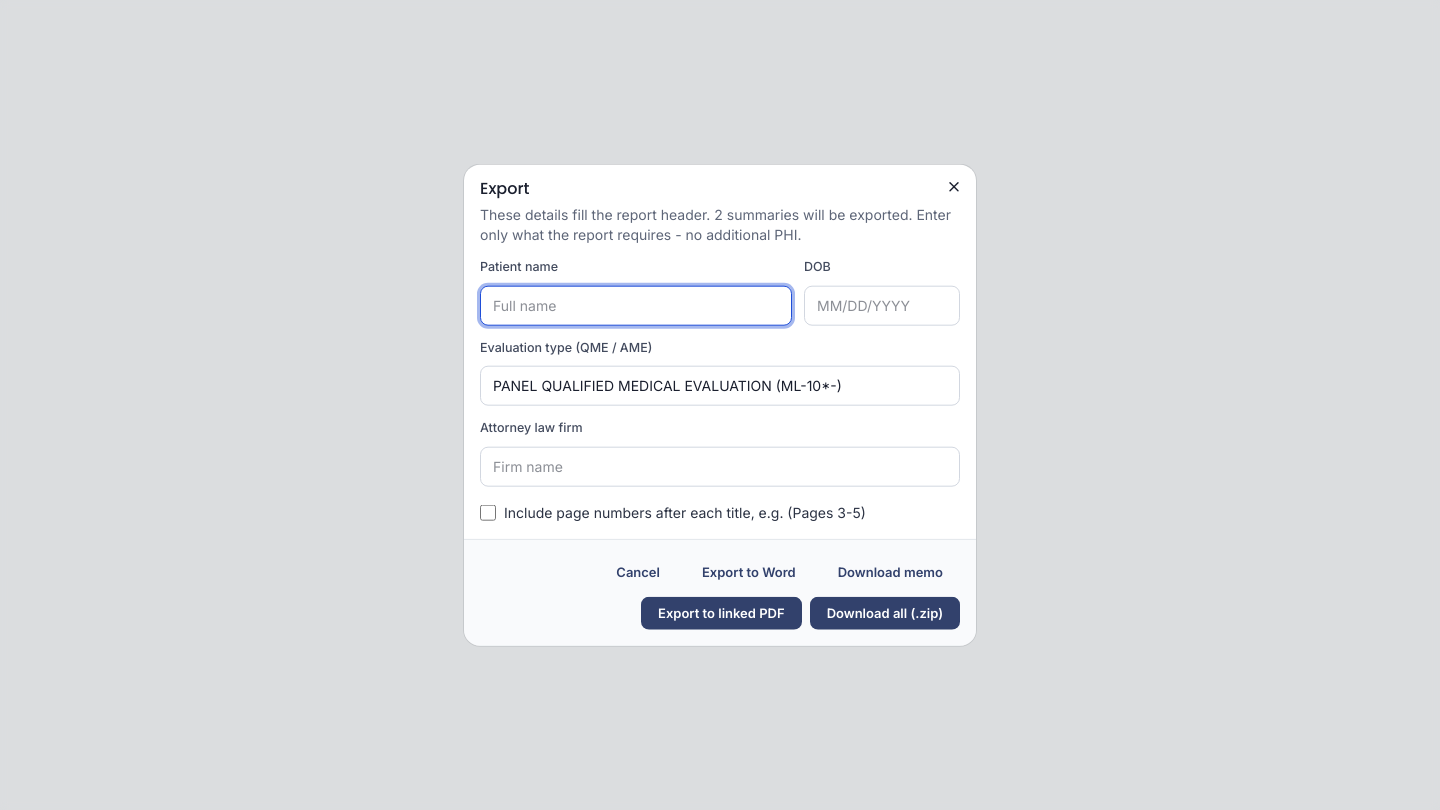
Test: ExportDialog error handling › shows the server's own reason for a refusal
The image size is (1440, 810).
What coordinates should you click on to do the following:
click the button "Export to Word"
I would click on:
 (749, 572)
Its box is [685,555,813,588].
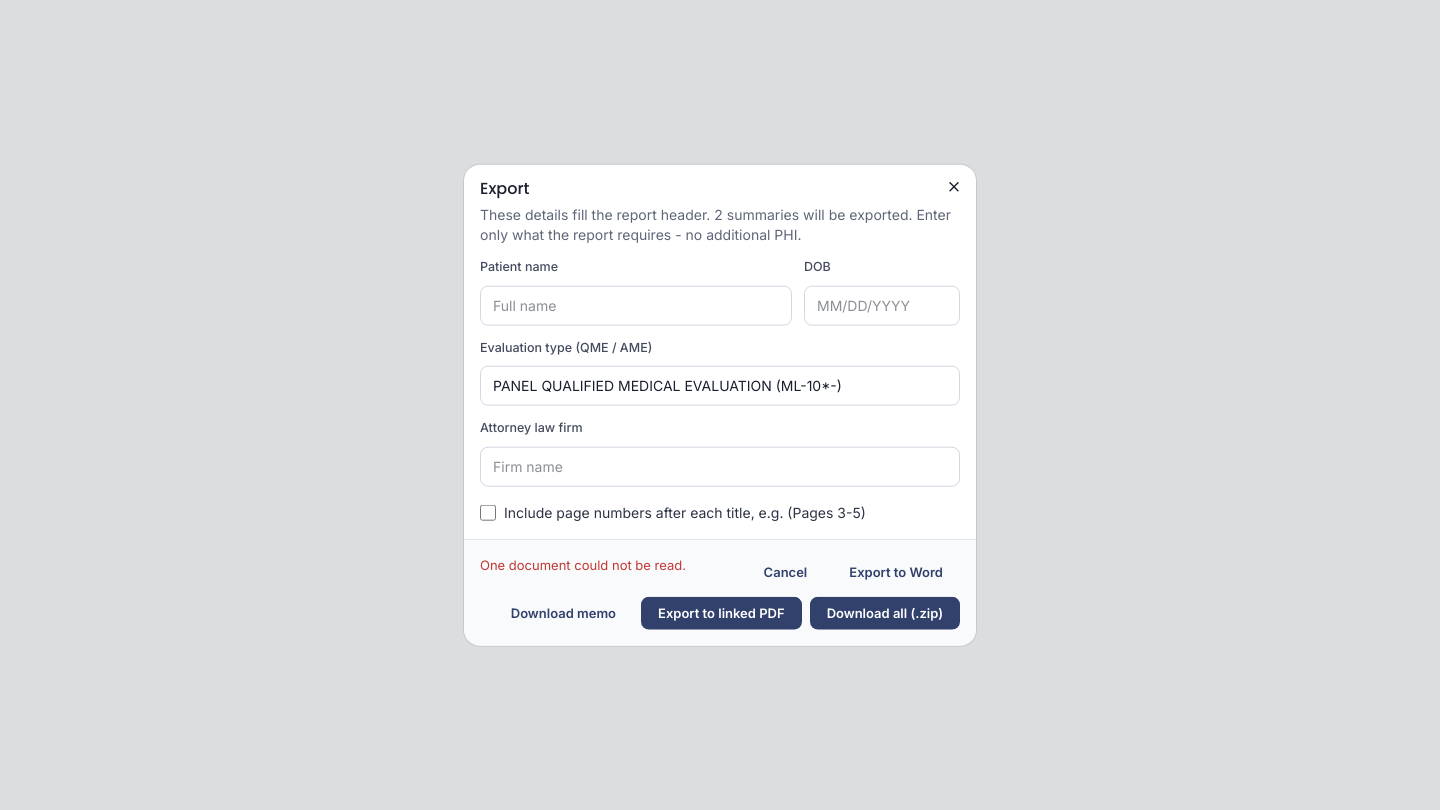
Now the text "One document could not be read." is shown, box [480,556,686,572]
